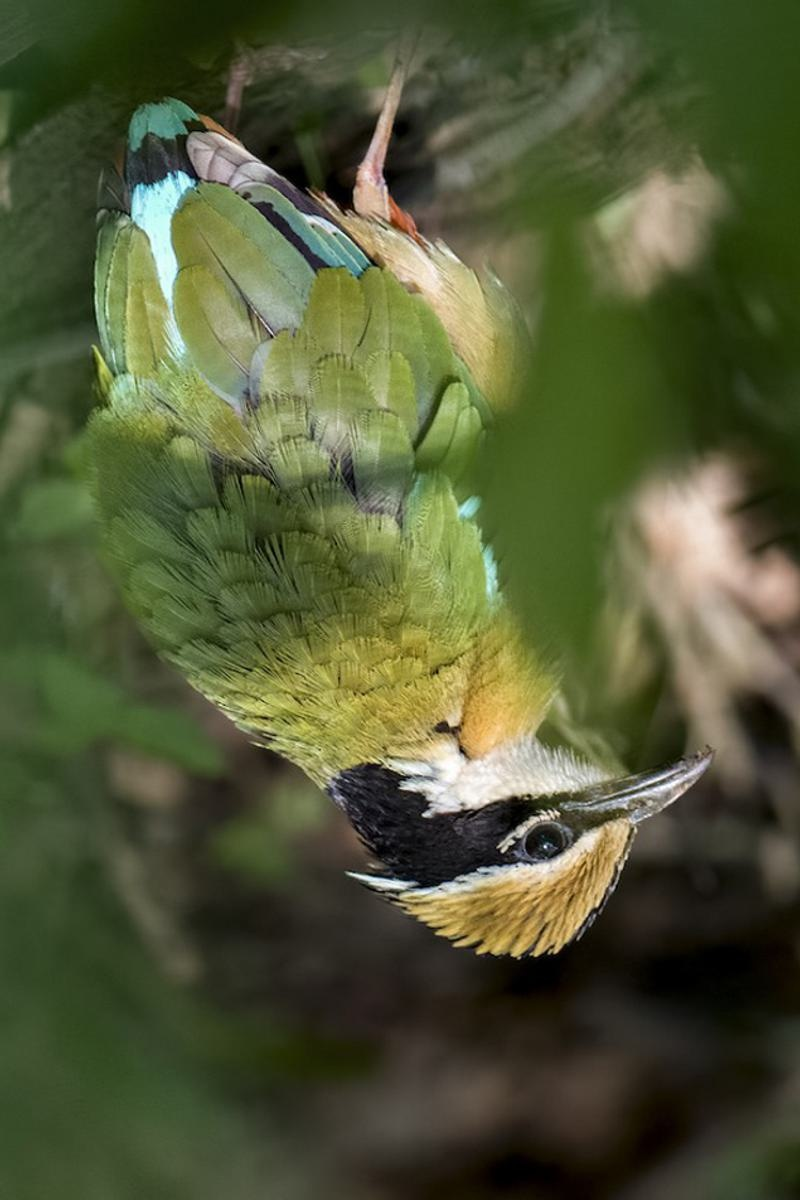pitta: (68, 104, 758, 1022)
